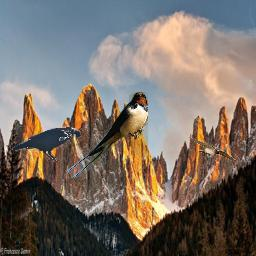Crow: (10, 126, 81, 163)
Swallow: (67, 92, 148, 178), (188, 136, 238, 162)
